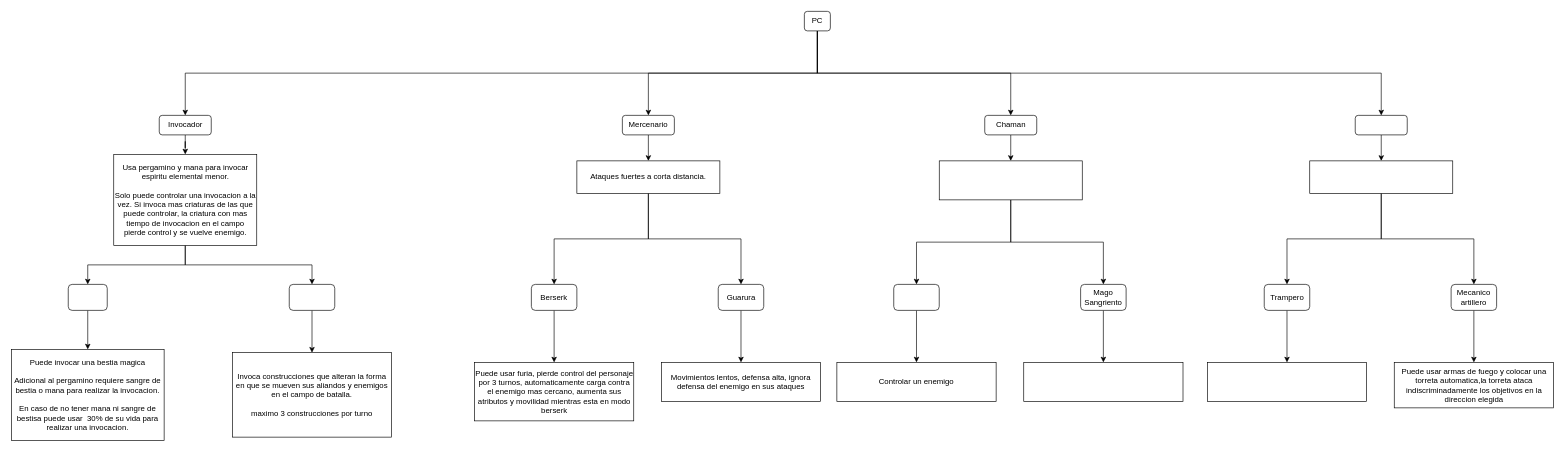
The diagram is 1565 pixels wide and 452 high, and some of its shapes have lost their labels. Each missing label, with the box of its shape:
Ataca con mana a larga distancia, puede usar hechizos de curacion: (939, 160, 1082, 200)
Curacion avanzada usando sangre o vida de algun personaje que controles: (1023, 362, 1183, 401)
detecta tesoros y areas escondidas.: (1309, 160, 1453, 193)
Invocador Arquitecto: (289, 284, 335, 310)
Invocador De Bestias: (68, 284, 107, 310)
puede colocar trampas en el campo de batalla: (1207, 362, 1367, 401)
Saqueador: (1355, 115, 1407, 135)
Titiritero: (893, 284, 939, 310)
